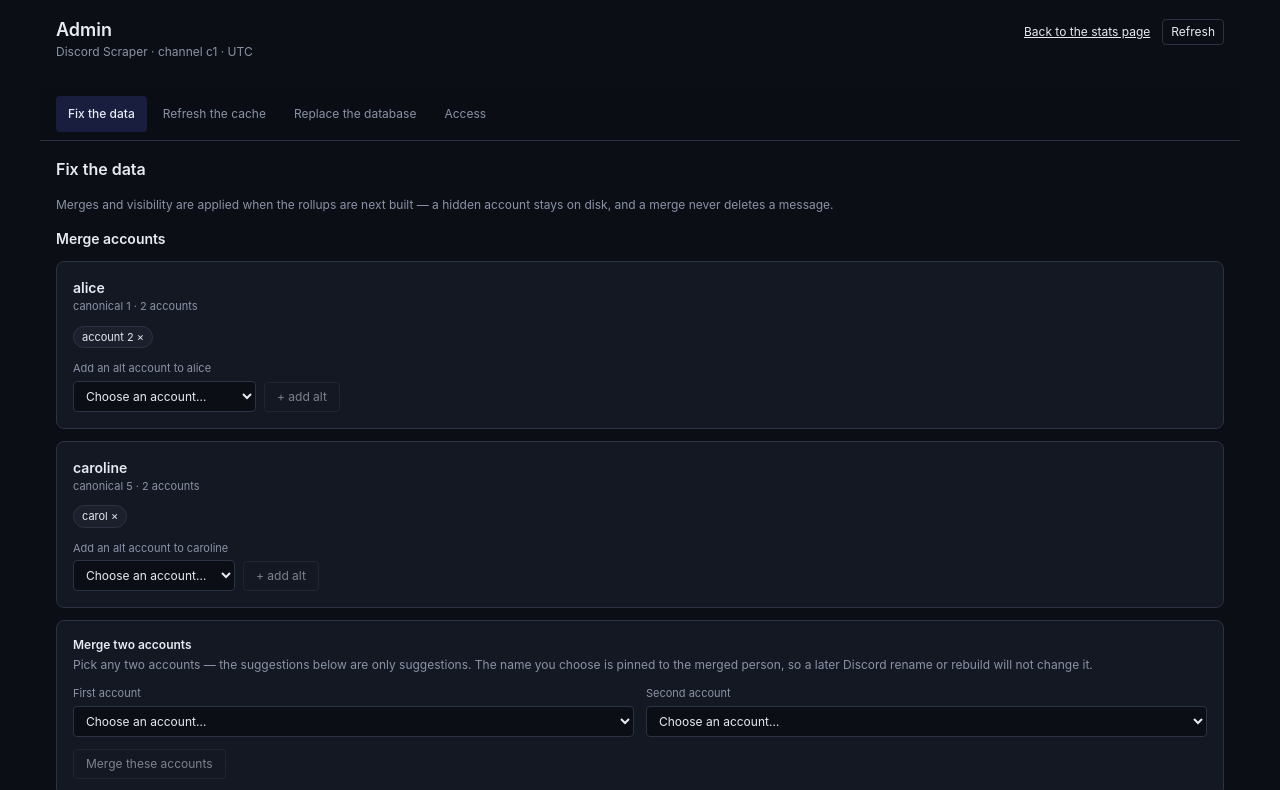
<Admin> › cancelling an absorb writes nothing
Click the button "Fix the data" at (101, 114), box [56,96,147,132]
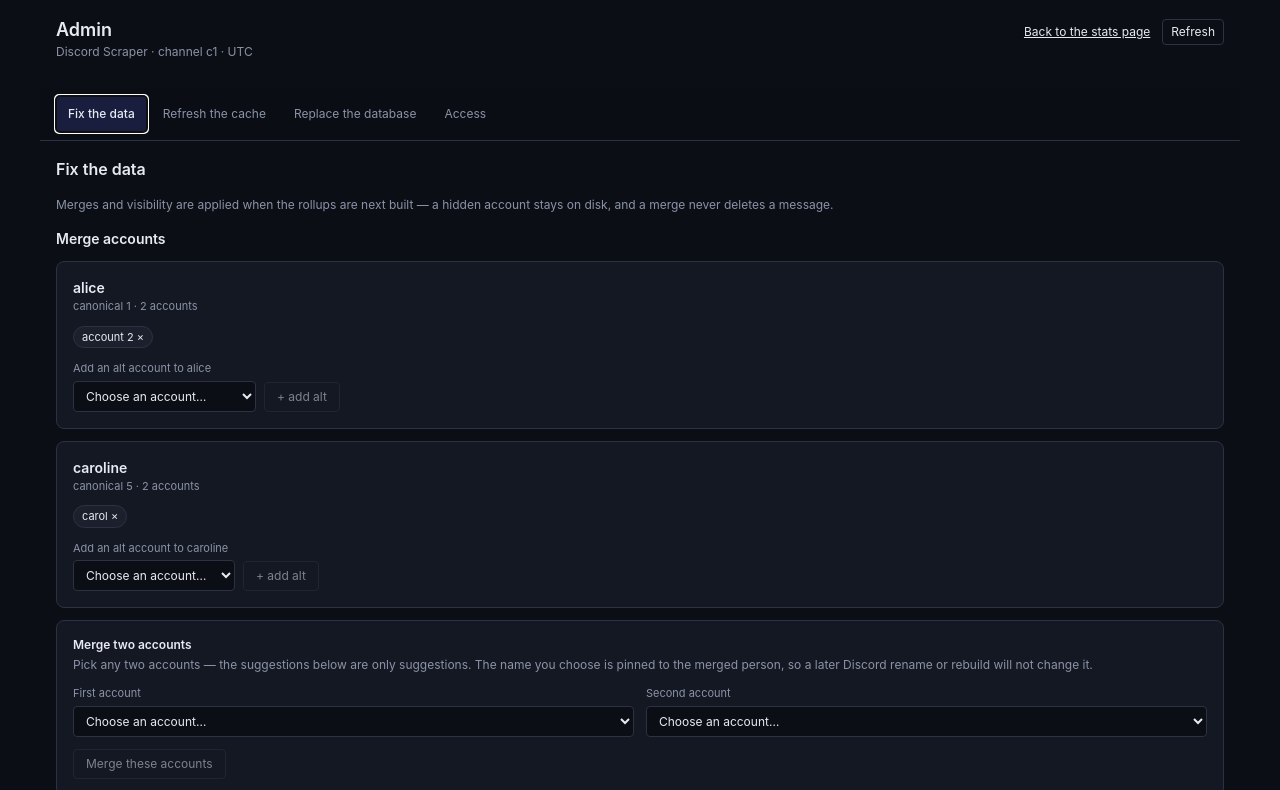
Select "caroline (5) — brings 1 alt" in the dropdown labelled "Add an alt account to alice" at (164, 396), box [73,380,256,412]
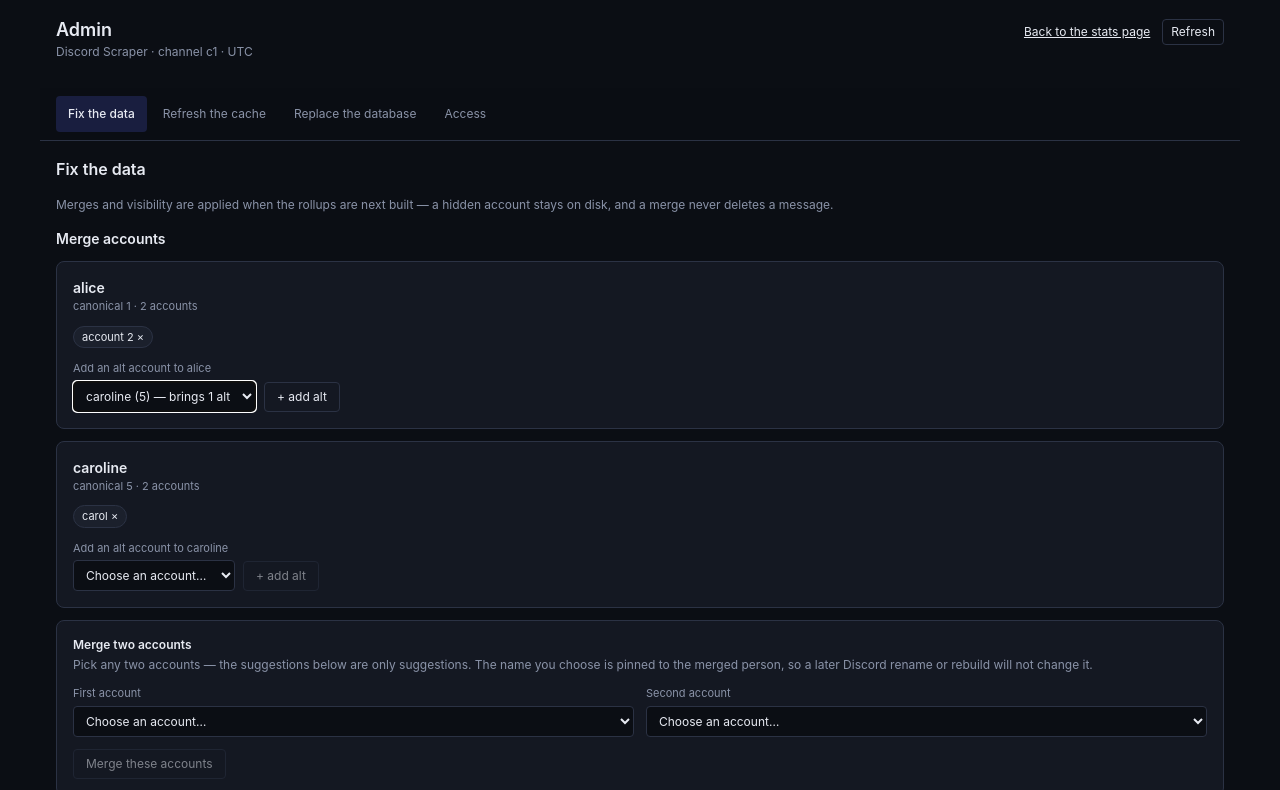
Click the 1st button "+ add alt" at (302, 396), box [264,382,340,412]
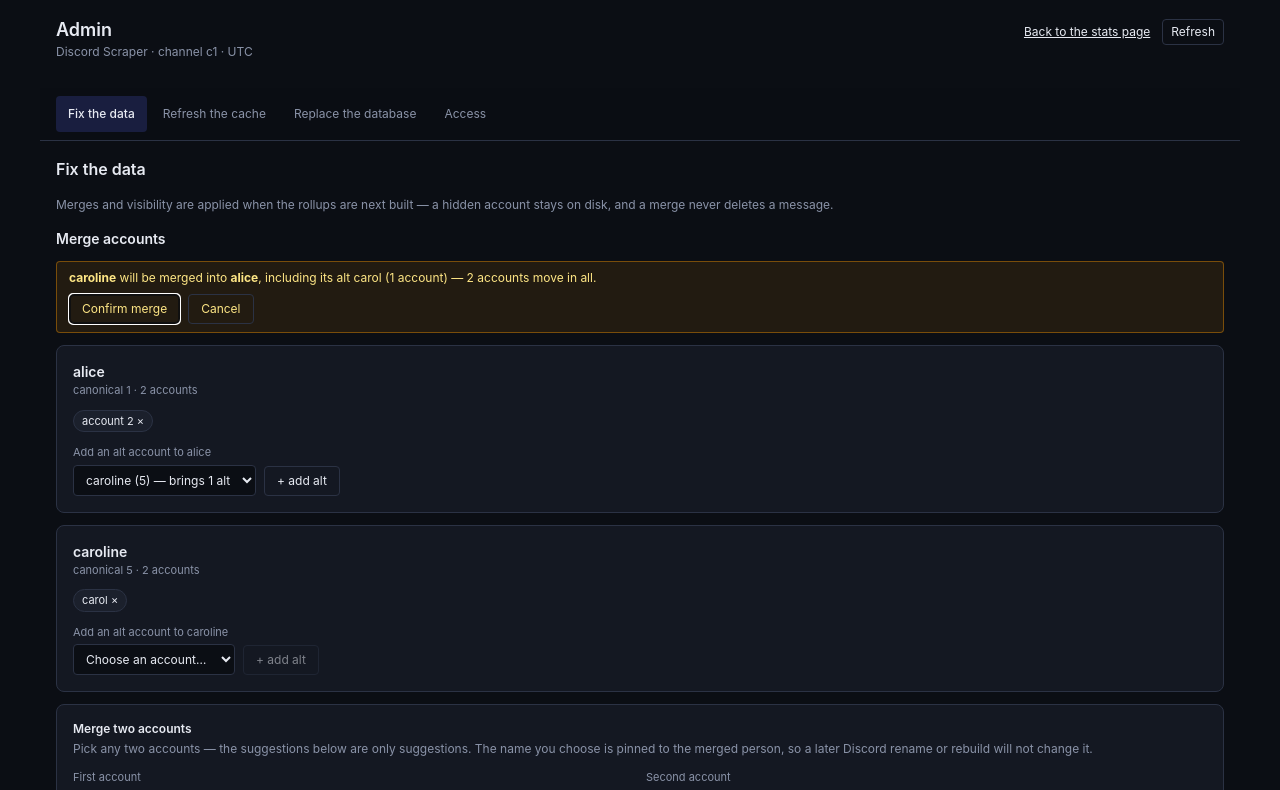
Click the button "Cancel" at (221, 309), box [188,294,254,324]
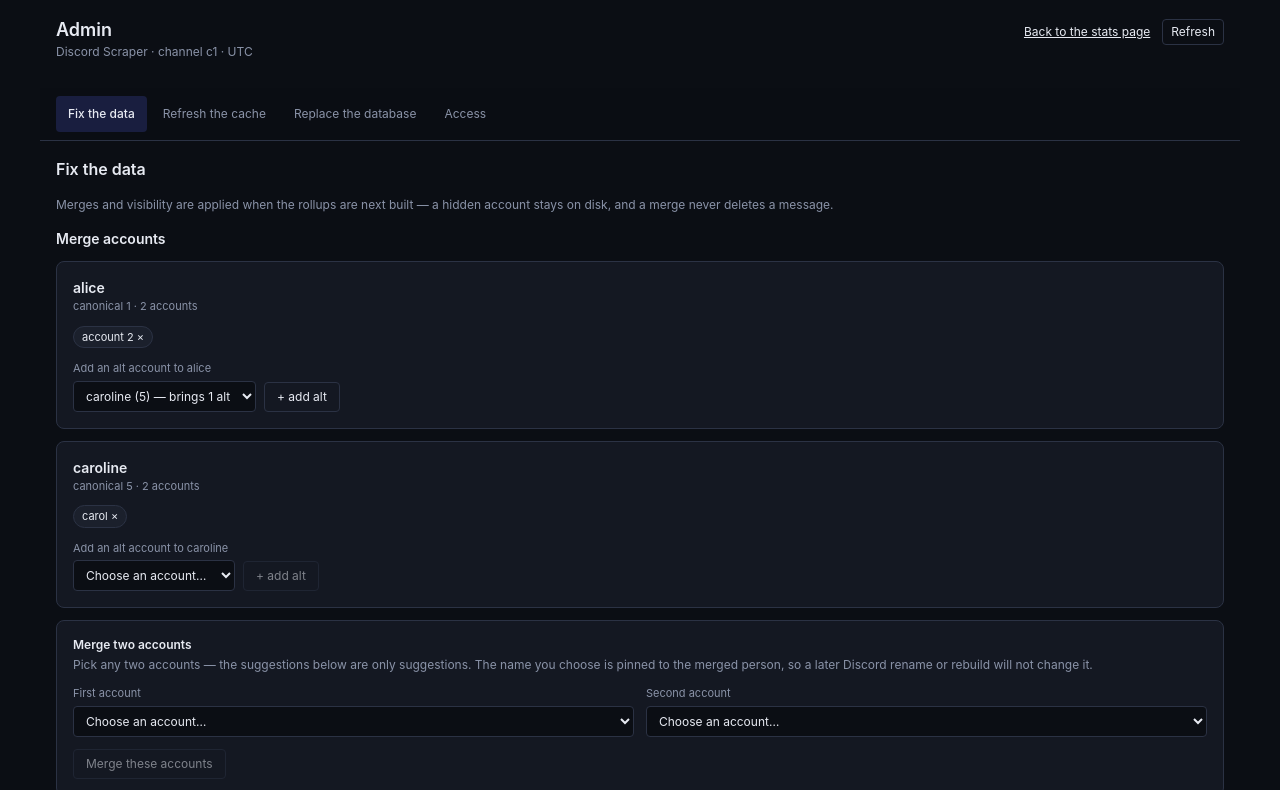
expect the dialog is gone: met
